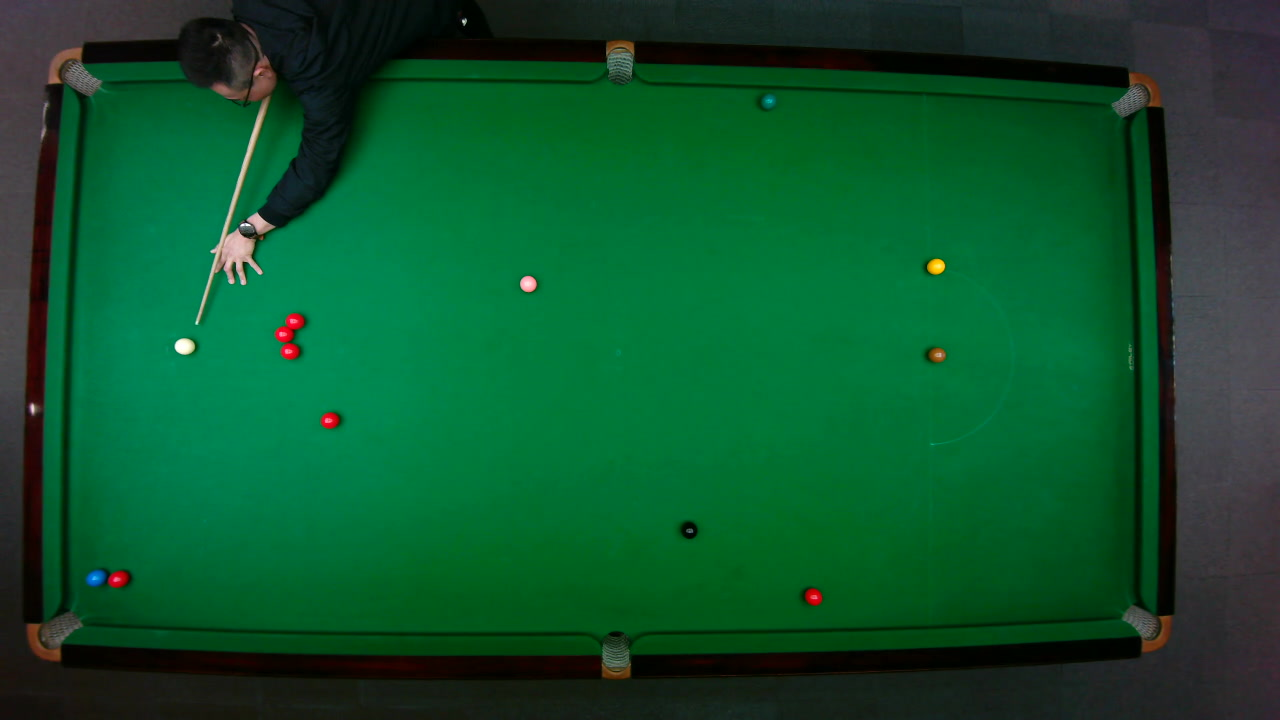bag: (25, 609, 83, 661), (45, 46, 103, 96), (1119, 603, 1172, 652), (1108, 71, 1161, 117), (600, 629, 629, 680), (605, 38, 633, 85)
black: (679, 520, 697, 538)
blue: (85, 567, 107, 587)
brown: (926, 346, 946, 362)
cue: (194, 84, 273, 326)
green: (759, 92, 776, 110)
pink: (518, 274, 537, 292)
red: (105, 568, 130, 588), (803, 587, 823, 606), (279, 342, 300, 360), (284, 312, 305, 330), (319, 411, 339, 429), (273, 325, 293, 342)
white: (172, 336, 196, 355)
yellow: (925, 257, 945, 274)
zone: (927, 266, 1013, 445)
